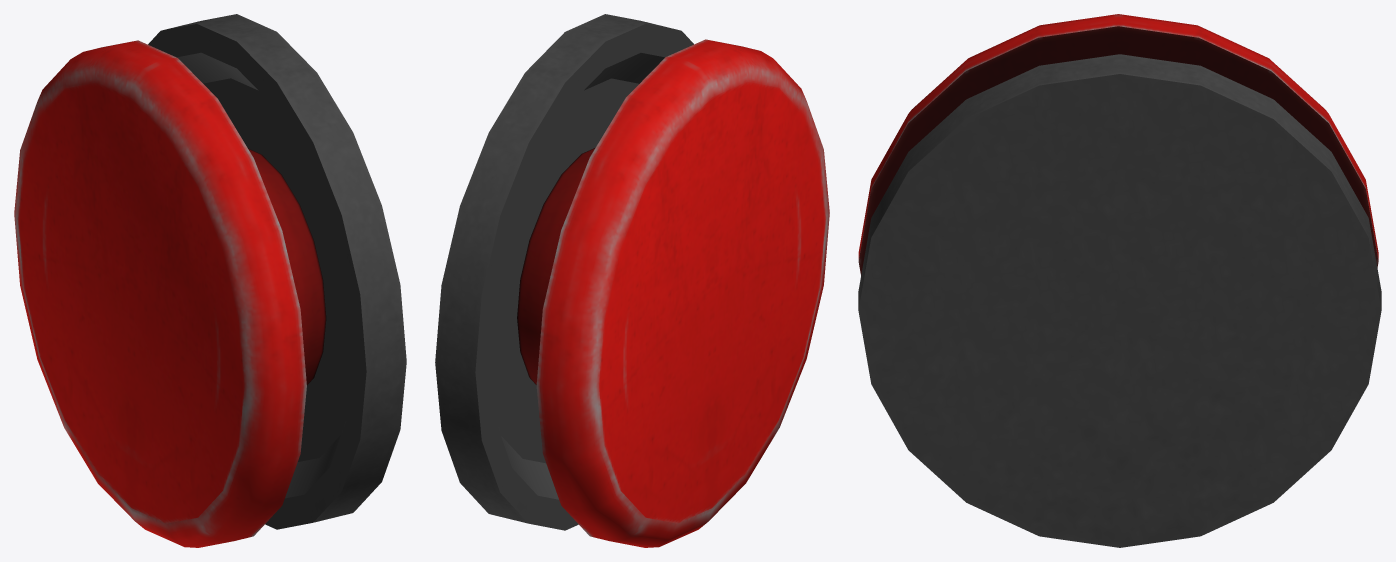
Rendered from SM_Light_00.fbx.
3 views of the same model, side by side, from view 1: azimuth 30°, elevation 25°; view 2: azimuth 150°, elevation 25°; view 3: azimuth 270°, elevation 25° (orthographic).
Parts seen in each view (by area): view 1: SM_Light_00; view 2: SM_Light_00; view 3: SM_Light_00.
Part boxes in pixels (bbox=[...]): SM_Light_00: bbox=[14, 14, 406, 547]; SM_Light_00: bbox=[435, 14, 829, 547]; SM_Light_00: bbox=[858, 14, 1381, 547].
Bounding box in the file's own units: 2.57 × 7.91 × 7.91.
1 material, 1 textured.
